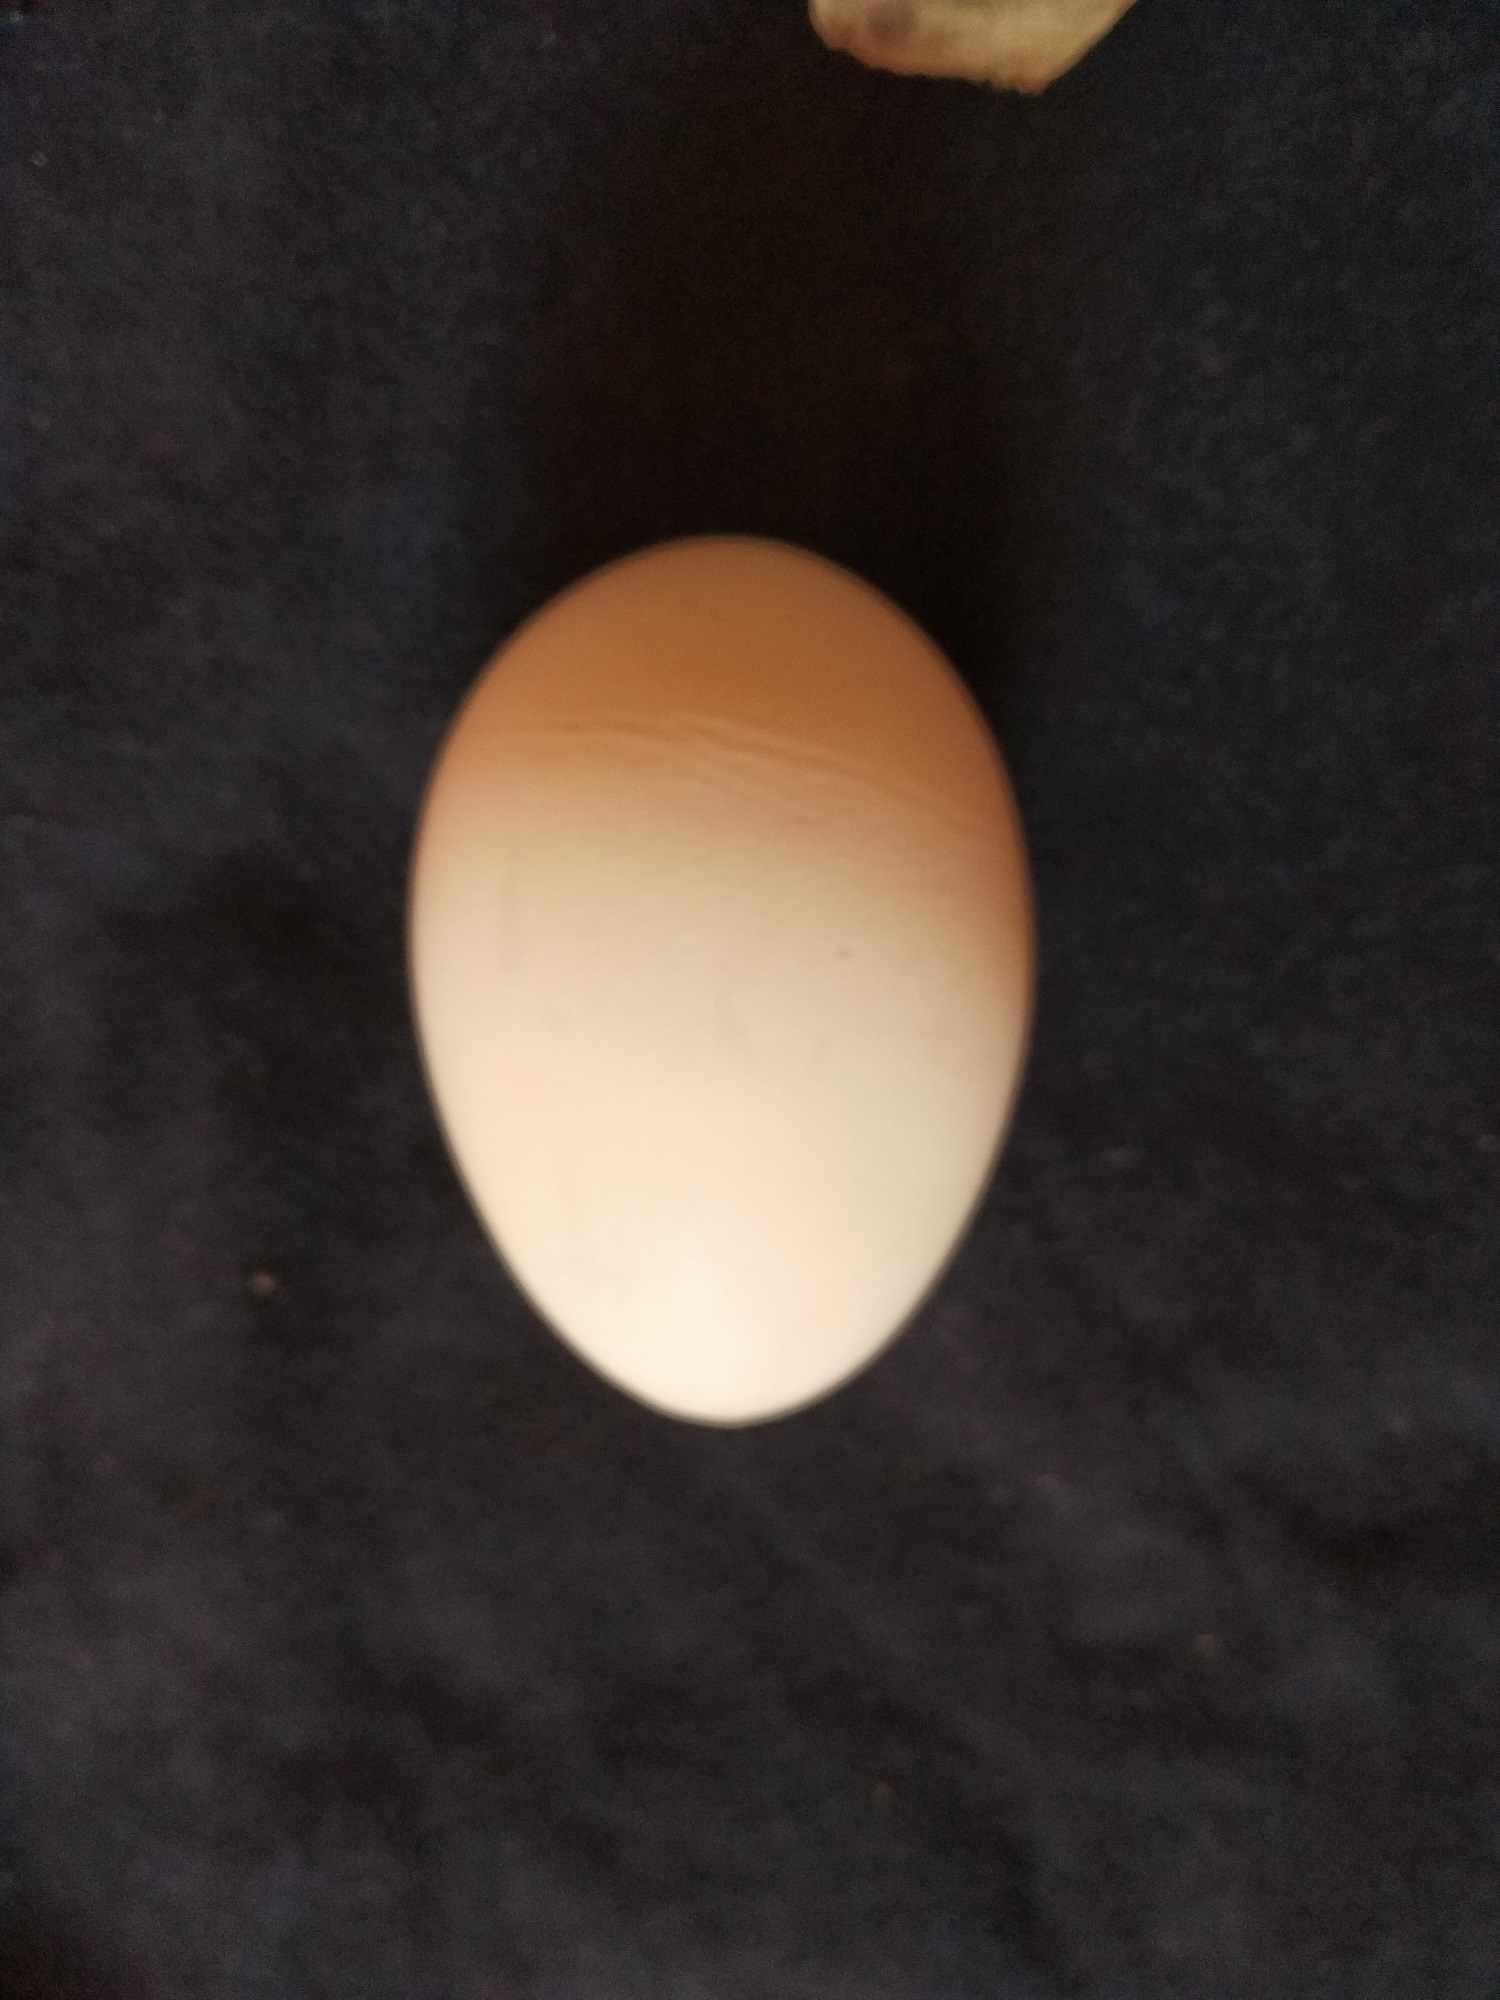Male: (395, 526, 1038, 1435)
